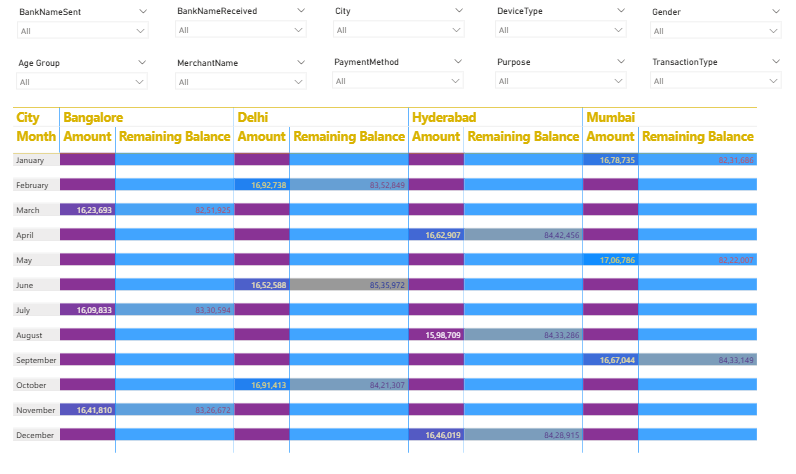

This screenshot's page, from the dashboard's own definition file:
{"tool":"powerbi","page":{"name":"Page 1","canvas":[1300,800],"ordinal":0},"visuals":[{"type":"slicer","fields":{"Values":["UPI_TRANSACTIONS.BankNameSent"]},"box":[30,30,230,80],"z":0},{"type":"slicer","fields":{"Values":["UPI_TRANSACTIONS.BankNameReceived"]},"box":[282.8,29.3,230.1,80.6],"z":1000},{"type":"slicer","fields":{"Values":["UPI_TRANSACTIONS.City"]},"box":[536.3,29.3,230.1,80.6],"z":2000},{"type":"slicer","fields":{"Values":["UPI_TRANSACTIONS.DeviceType"]},"box":[795.7,29.3,230.1,80.6],"z":3000},{"type":"slicer","fields":{"Values":["UPI_TRANSACTIONS.Gender"]},"box":[1043.3,30.8,230.1,80.6],"z":4000},{"type":"slicer","fields":{"Values":["UPI_TRANSACTIONS.Age Group"]},"box":[29.3,111.4,230.1,80.6],"z":5000},{"type":"slicer","fields":{"Values":["UPI_TRANSACTIONS.MerchantName"]},"box":[282.8,111.4,230.1,80.6],"z":6000},{"type":"slicer","fields":{"Values":["UPI_TRANSACTIONS.PaymentMethod"]},"box":[534.8,109.9,230.1,80.6],"z":7000},{"type":"slicer","fields":{"Values":["UPI_TRANSACTIONS.Purpose"]},"box":[795.7,109.9,230.1,80.6],"z":8000},{"type":"slicer","fields":{"Values":["UPI_TRANSACTIONS.TransactionType"]},"box":[1043.3,109.9,230.1,80.6],"z":9000},{"type":"pivotTable","fields":{"Values":["Sum(UPI_TRANSACTIONS.Amount)","Sum(UPI_TRANSACTIONS.RemainingBalance)"],"Rows":["UPI_TRANSACTIONS.TransactionDate.Variation.Date Hierarchy.Month"],"Columns":["UPI_TRANSACTIONS.City","UPI_TRANSACTIONS.Currency"]},"box":[29.4,190.8,1244.5,588.8],"z":10000}]}

Visuals, with their boxes on the page's 1300x800 design canvas (x1, y1, x2, y2). These are canvas units, not pixel positions in the 796x474 screenshot, which may show the page scaled, cropped or inside an application window:
slicer - UPI_TRANSACTIONS.BankNameSent: region(30, 30, 260, 110)
slicer - UPI_TRANSACTIONS.BankNameReceived: region(283, 29, 513, 110)
slicer - UPI_TRANSACTIONS.City: region(536, 29, 766, 110)
slicer - UPI_TRANSACTIONS.DeviceType: region(796, 29, 1026, 110)
slicer - UPI_TRANSACTIONS.Gender: region(1043, 31, 1273, 111)
slicer - UPI_TRANSACTIONS.Age Group: region(29, 111, 259, 192)
slicer - UPI_TRANSACTIONS.MerchantName: region(283, 111, 513, 192)
slicer - UPI_TRANSACTIONS.PaymentMethod: region(535, 110, 765, 190)
slicer - UPI_TRANSACTIONS.Purpose: region(796, 110, 1026, 190)
slicer - UPI_TRANSACTIONS.TransactionType: region(1043, 110, 1273, 190)
pivotTable - Sum(UPI_TRANSACTIONS.Amount) x Sum(UPI_TRANSACTIONS.RemainingBalance): region(29, 191, 1274, 780)
